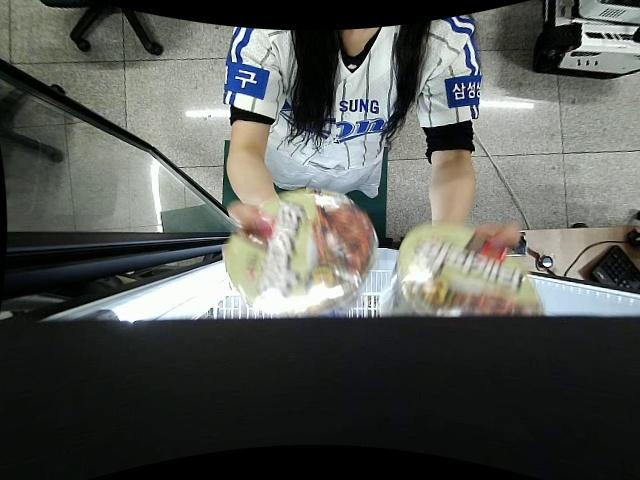00_hand: (222, 199, 276, 241), (471, 221, 525, 258)
03_chapagetti_L: (225, 187, 376, 320), (386, 222, 545, 320)
